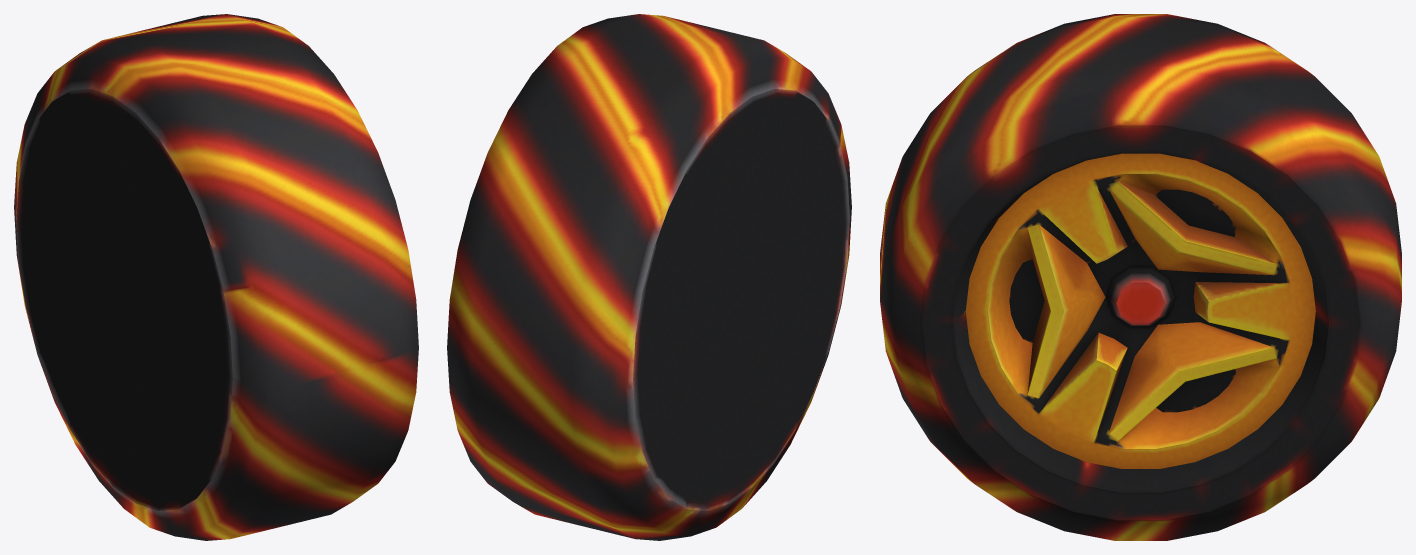
File: cicada_wheel.fbx
3 renders of one model, left to right at view 1: azimuth 30°, elevation 25°; view 2: azimuth 150°, elevation 25°; view 3: azimuth 270°, elevation 25°, orthographic.
Parts seen in each view (by area): view 1: Cube.234; view 2: Cube.234; view 3: Cube.234.
Boxes of the visible parts, left/top/right/bottom form: Cube.234: left=14, top=14, right=418, bottom=540; Cube.234: left=447, top=14, right=851, bottom=540; Cube.234: left=880, top=14, right=1401, bottom=540.
Bounding box in the file's own units: 41.48 × 100 × 101.
